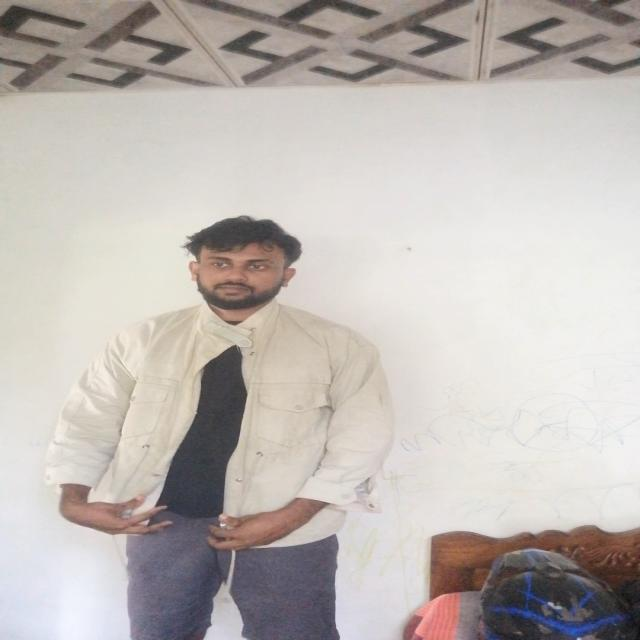Jacket_Wearer: (66, 296, 392, 548)
Person: (65, 218, 408, 640)
